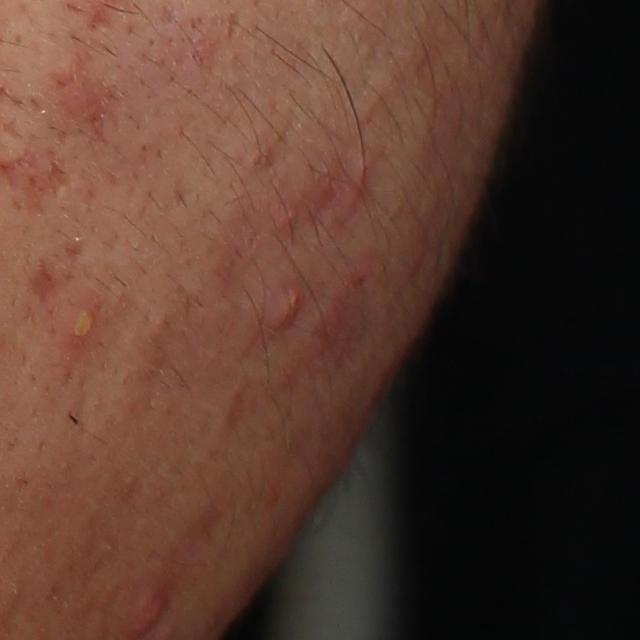atrophic_scar: (25, 250, 57, 306)
papule: (263, 284, 309, 342), (341, 173, 370, 225)
pustule: (66, 288, 101, 353)
